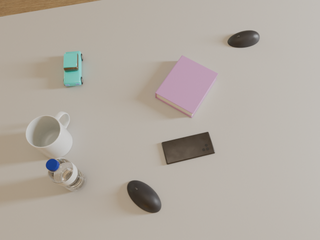book: (155, 55, 218, 118)
bottle: (46, 157, 86, 191)
cup: (26, 111, 72, 158)
mouse: (127, 180, 161, 213), (228, 30, 260, 48)
phone: (162, 132, 215, 164)
toy_car: (64, 51, 83, 86)
